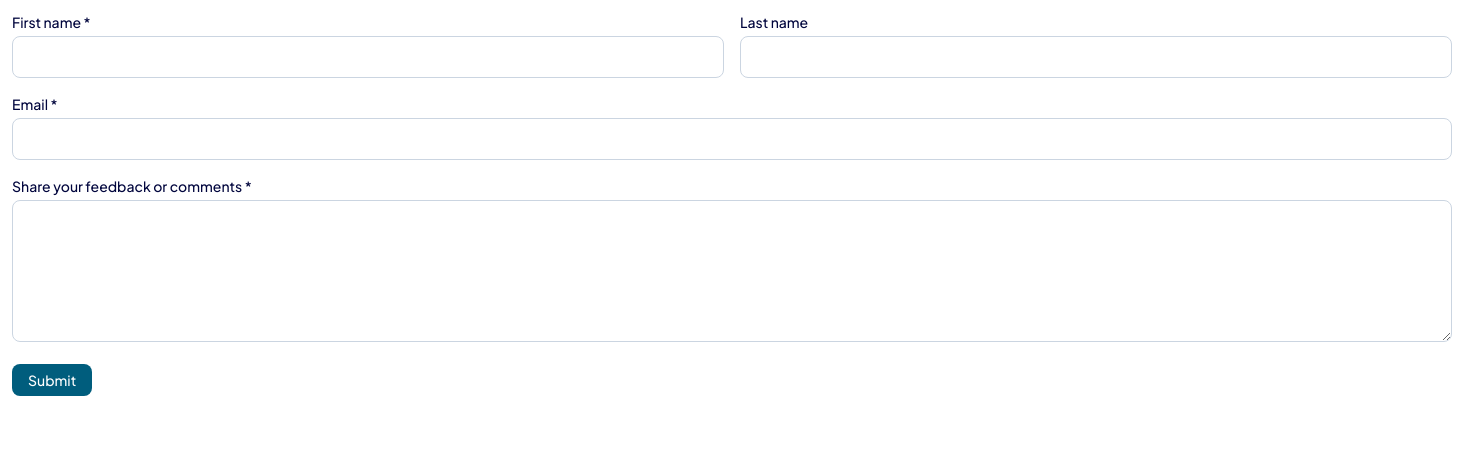
Scenario: ContactForm › posts the form and confirms on success
Type "Aroha" into the field labelled "First name *" at (368, 57), box [12,36,724,78]
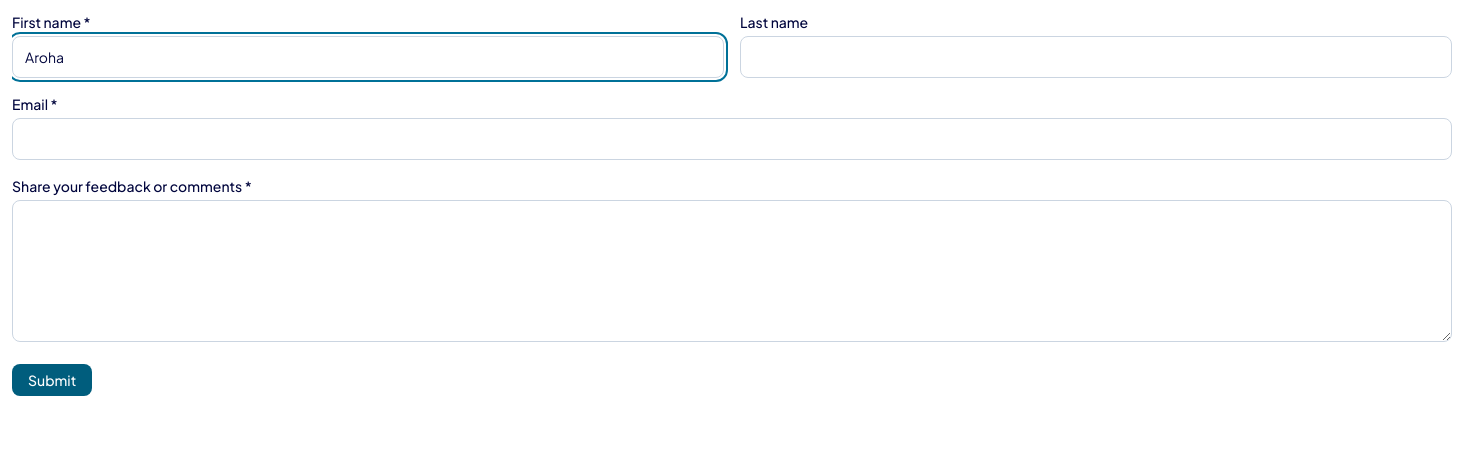
Type "Ngata" into the field labelled "Last name" at (1096, 57), box [740,36,1452,78]
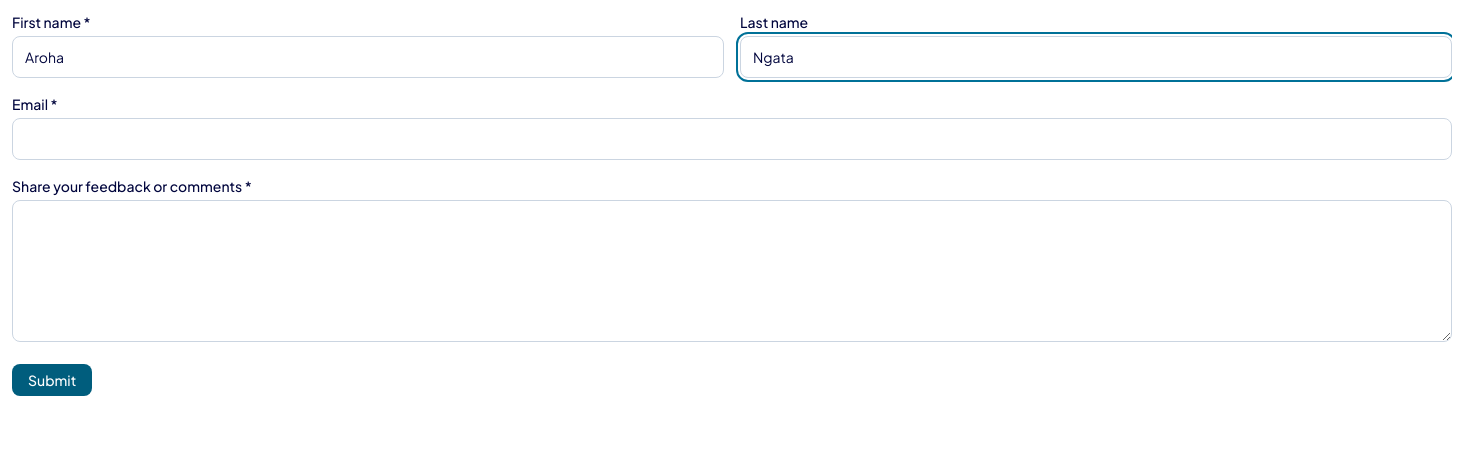
Type "a@example.com" into the field labelled "Email *" at (732, 139), box [12,118,1452,160]
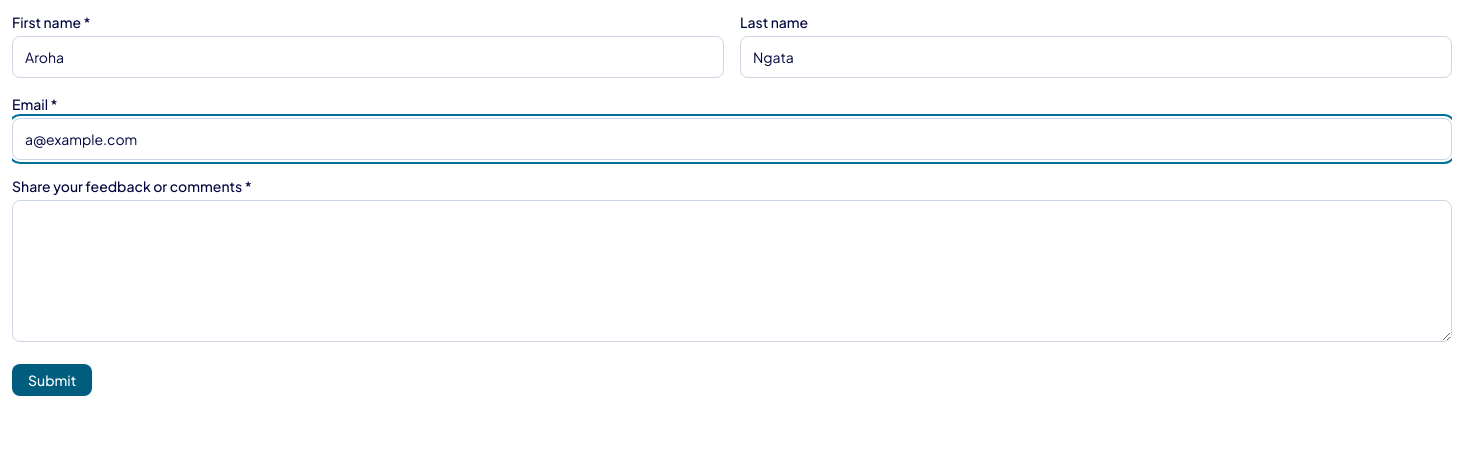
Type "Great app" into the text box labelled "Share your feedback or comments *" at (732, 271), box [12,200,1452,342]
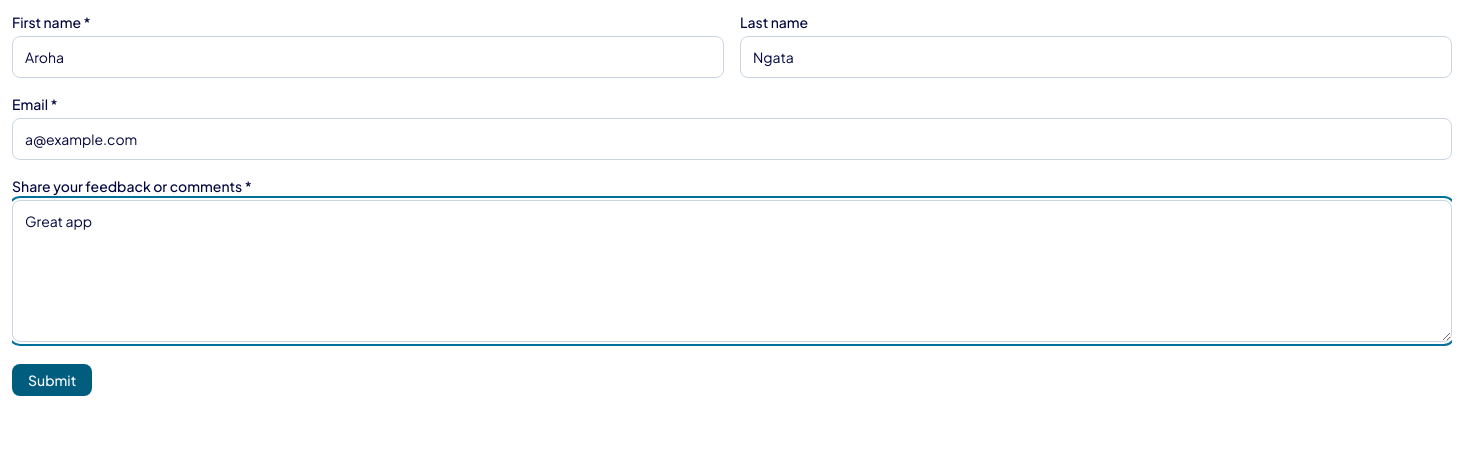
Click the button "Submit" at (52, 380), box [12,364,92,396]
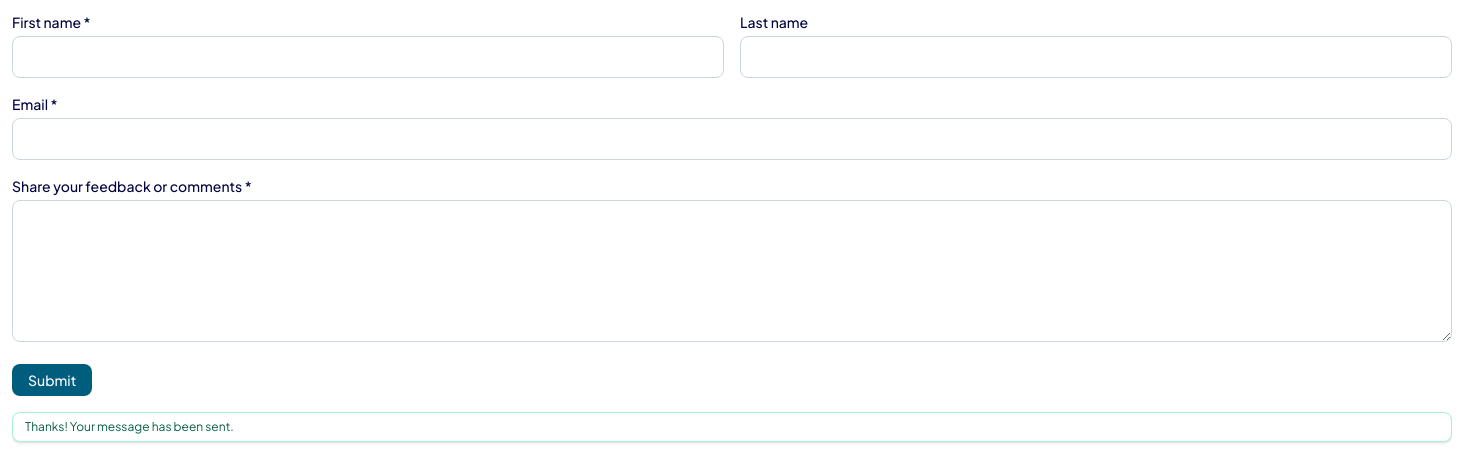
Expected: the text "Thanks! Your message has been sent." is shown, [25,419,234,435]
